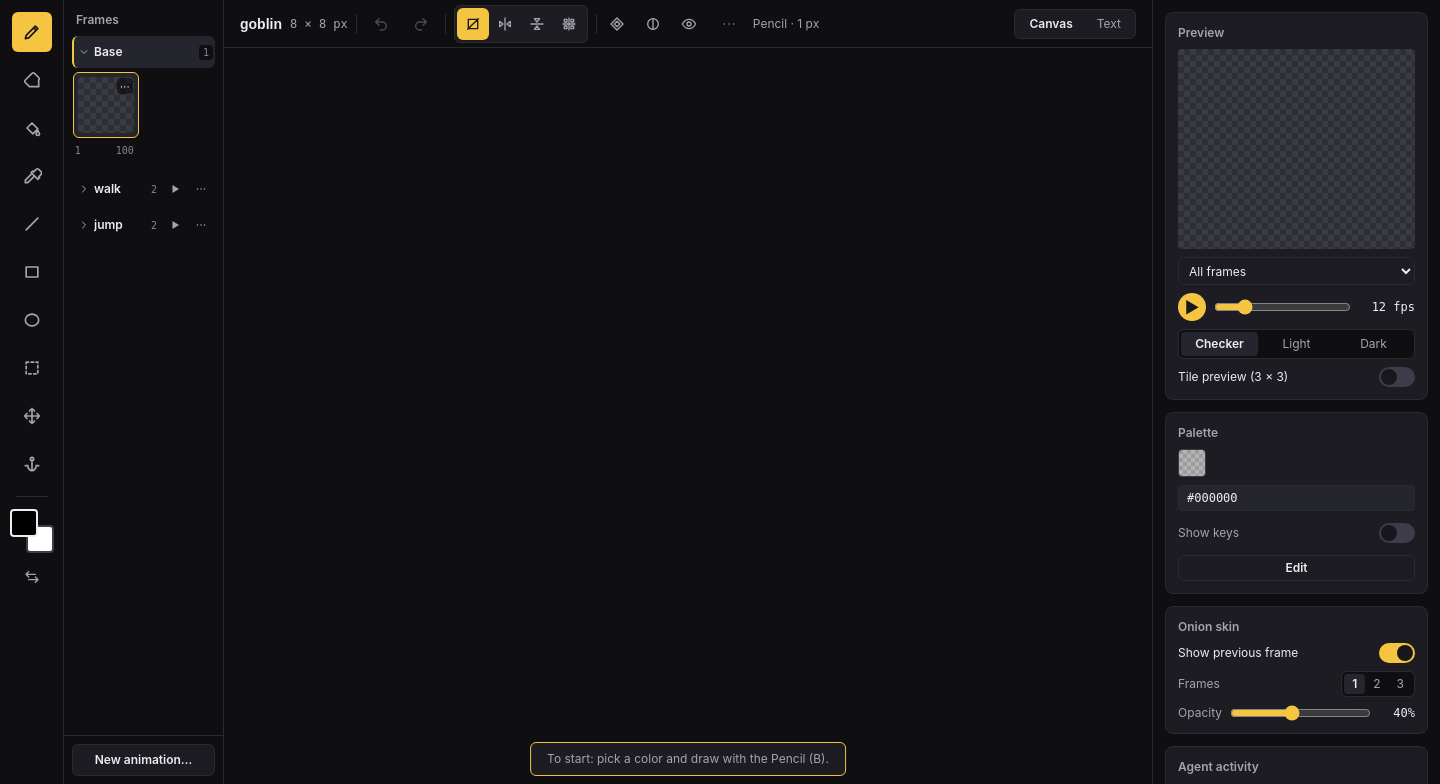
Test case: The menu of an animation › duplicates an animation
The image size is (1440, 784).
Later steps or results of the test are not shown.
Click the button named "Menu of walk".
click(201, 189)  # box [189,177,213,201]
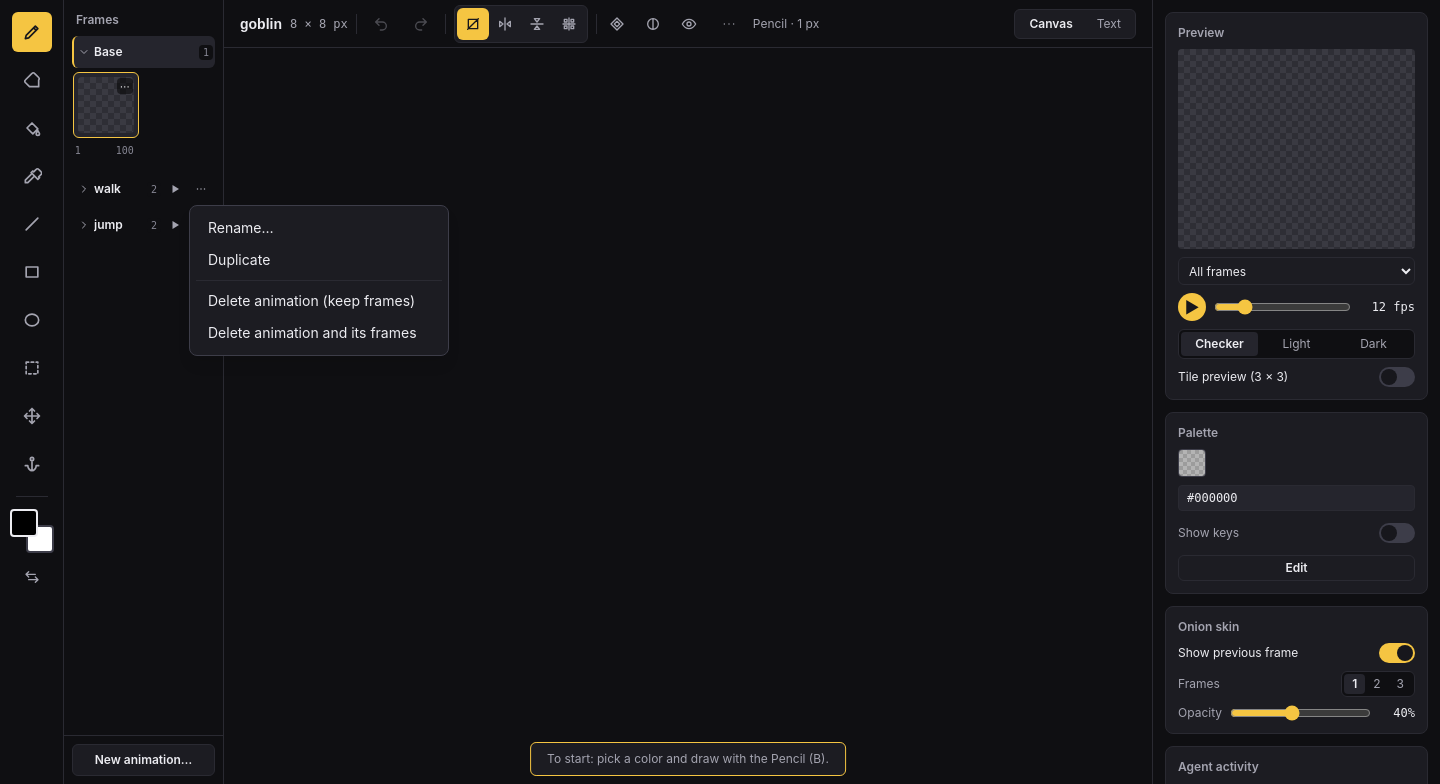
Click the menu item "Duplicate".
click(319, 260)  # box [196,244,442,276]
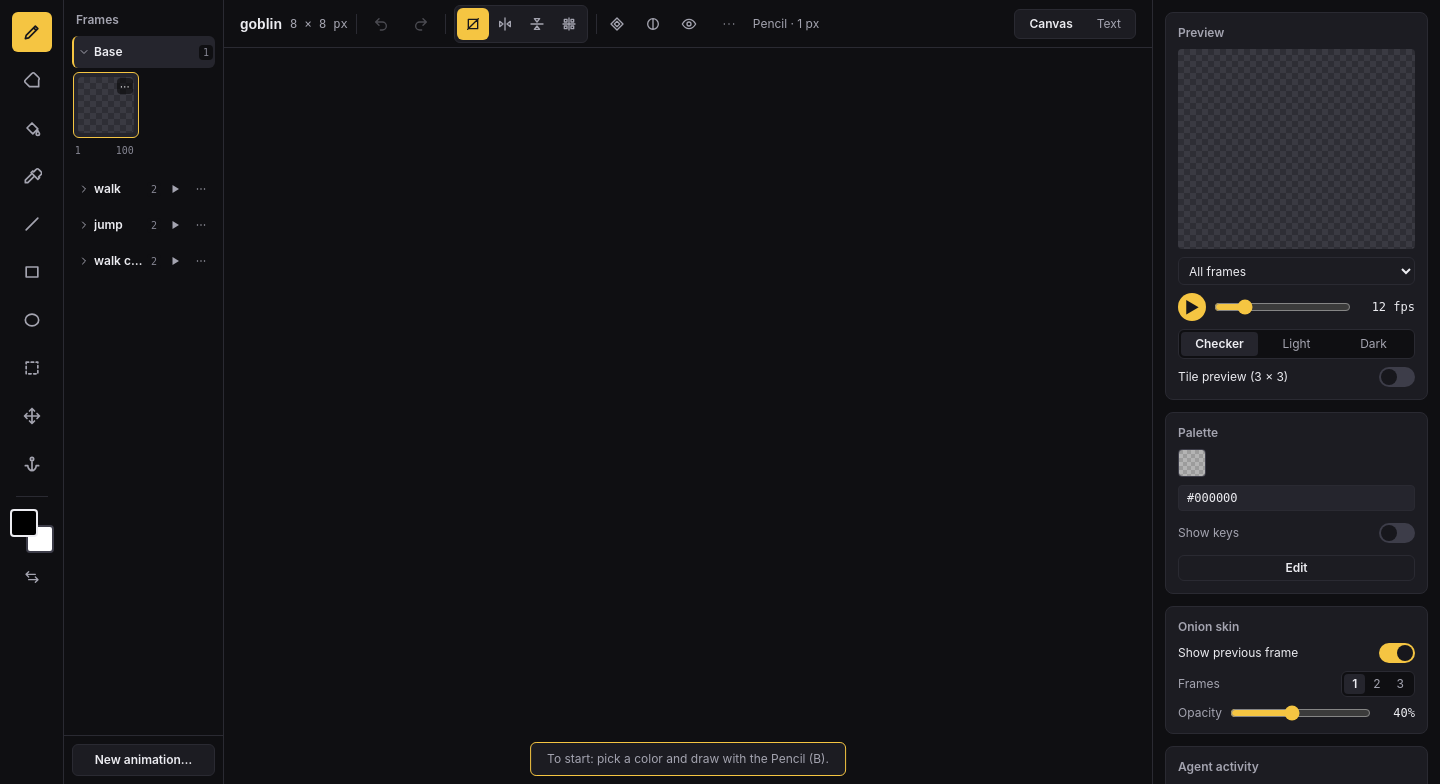
Result: the element "walk copy" is shown at [72,245,215,277]
